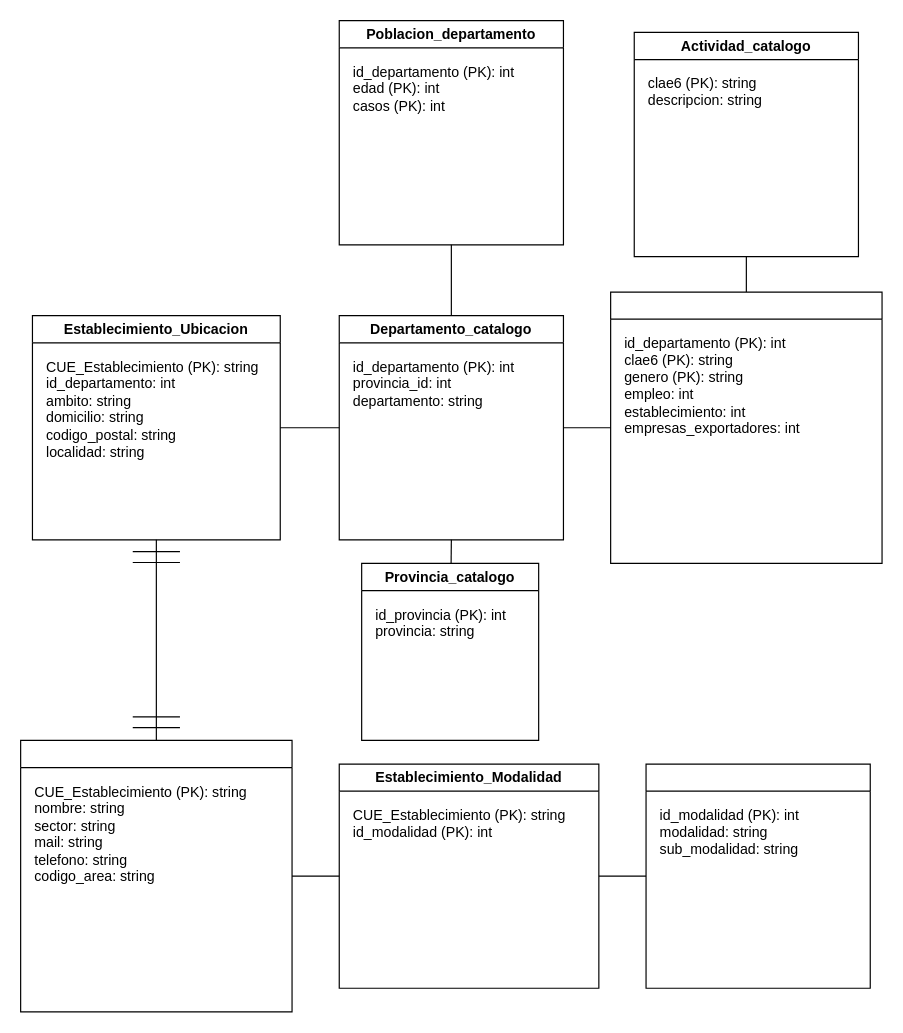
Image size: 903x1033. Some labels were removed from this diagram. The shapes that lost their labels are listed below. From the top down, each one's box as (x1, y1, x2, y2) in pixels, then its label:
(609, 291, 882, 563): Actividad_Departamento
(19, 739, 292, 1012): Establecimiento Educativo
(645, 763, 870, 988): Modalidad Educativa
